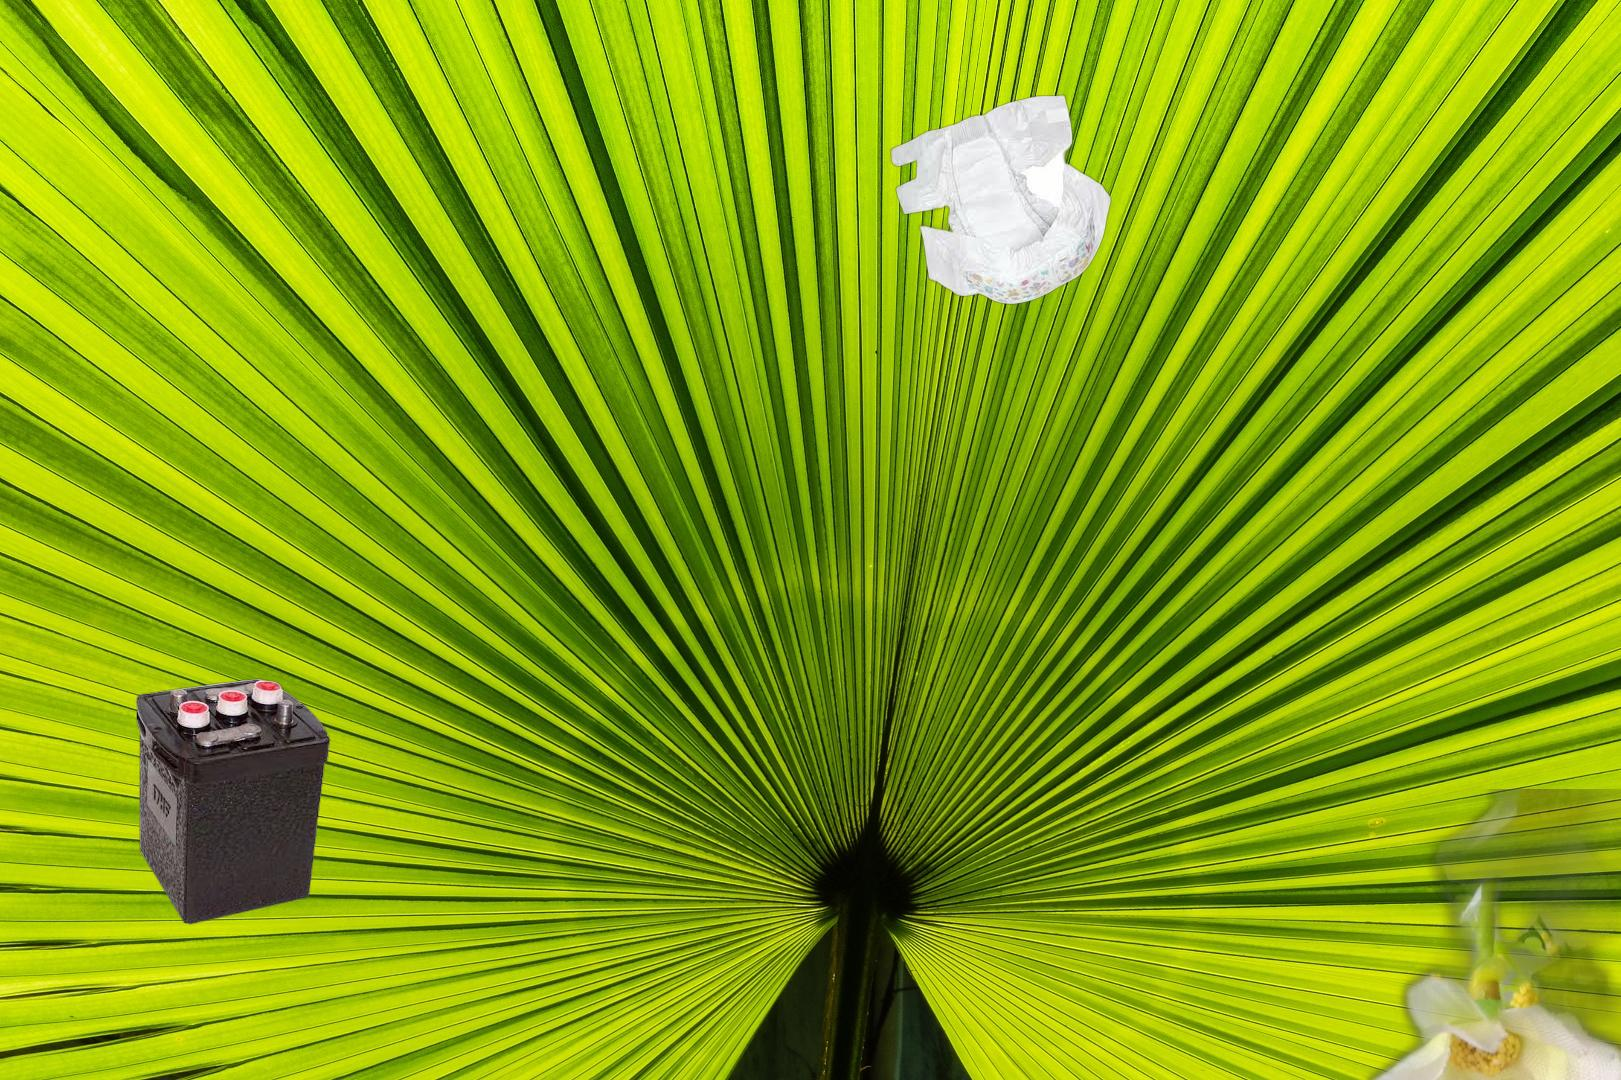battery: (133, 677, 333, 927)
penholder: (1080, 790, 1621, 1080)
trash: (888, 92, 1112, 311)
